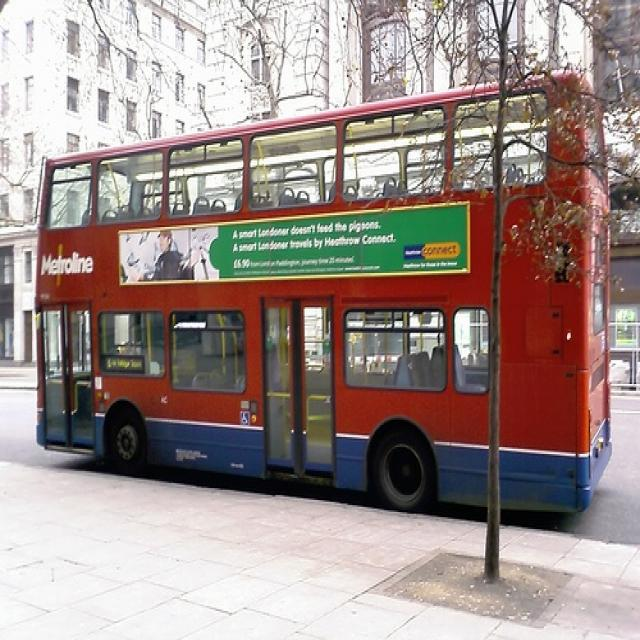bus: (32, 72, 611, 519)
